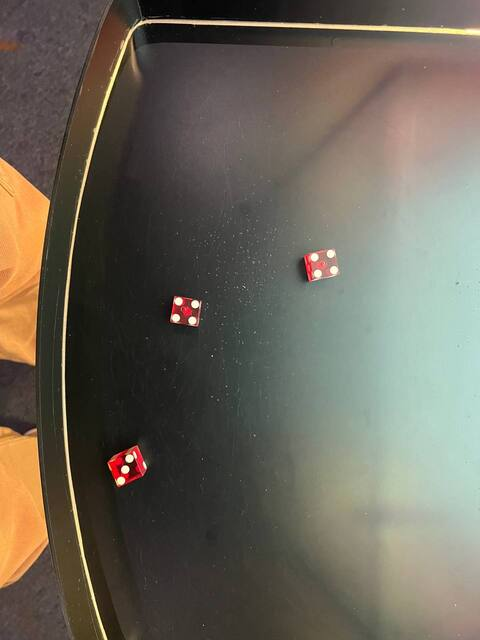four: (303, 244, 344, 283), (165, 292, 204, 331)
three: (106, 449, 144, 488)
